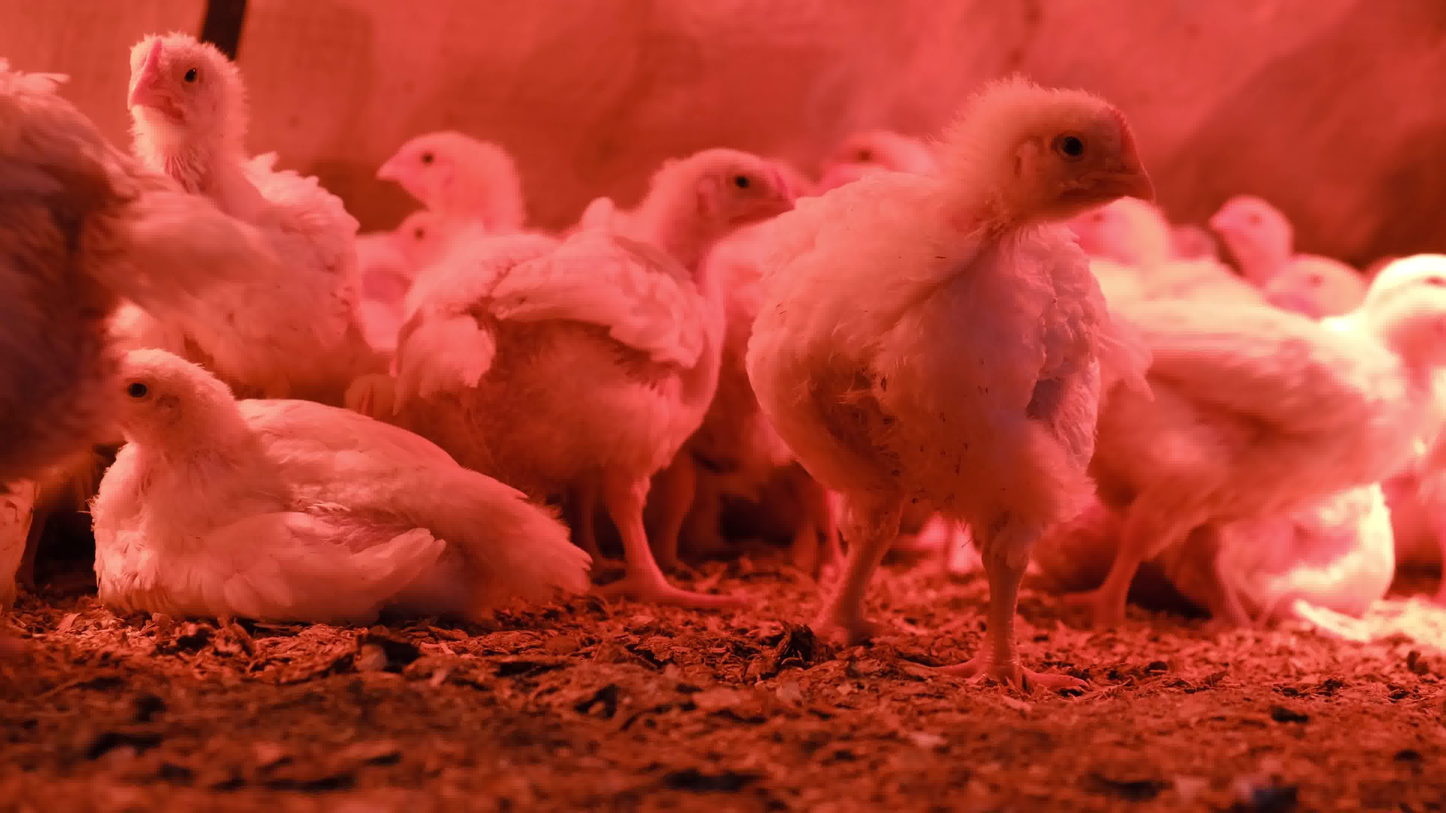AbNormal: (93, 351, 590, 631), (1144, 460, 1428, 625)
Normal: (748, 70, 1160, 684), (378, 145, 801, 604), (1057, 249, 1446, 646), (0, 46, 259, 505), (128, 36, 369, 398), (379, 128, 531, 259), (1209, 189, 1287, 318), (819, 125, 936, 185), (1263, 256, 1371, 318), (396, 204, 459, 277)
